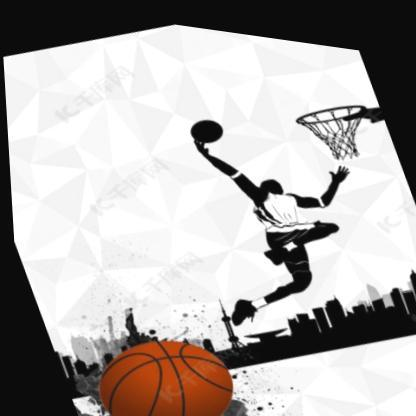basketball: (78, 308, 246, 416)
